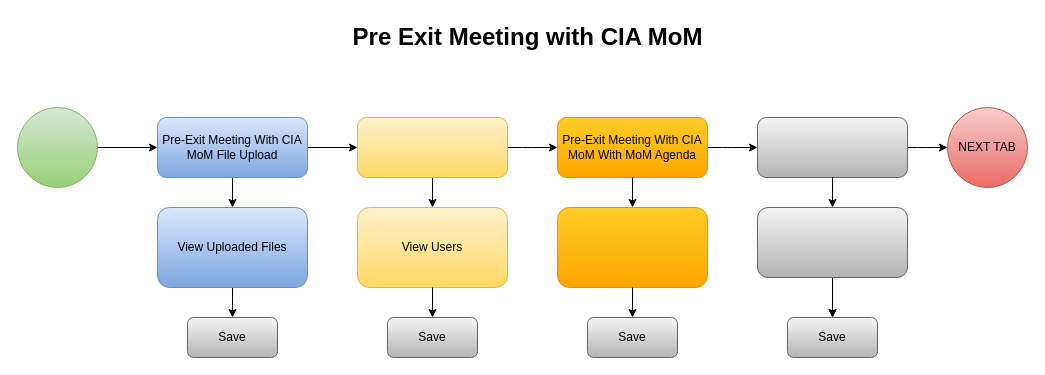
Image size: 1045x375. Some labels were removed from this diagram. Each missing label, with the centre of its shape:
Pre-Exit Meeting With CIA MoM RAID Logs: (x=832, y=147)
Pre-Exit Meeting With CIA MoM With MoM Users: (x=432, y=147)
Start: (x=57, y=147)
View MoM Agenda: (x=632, y=247)
View RAID Logs: (x=832, y=242)
